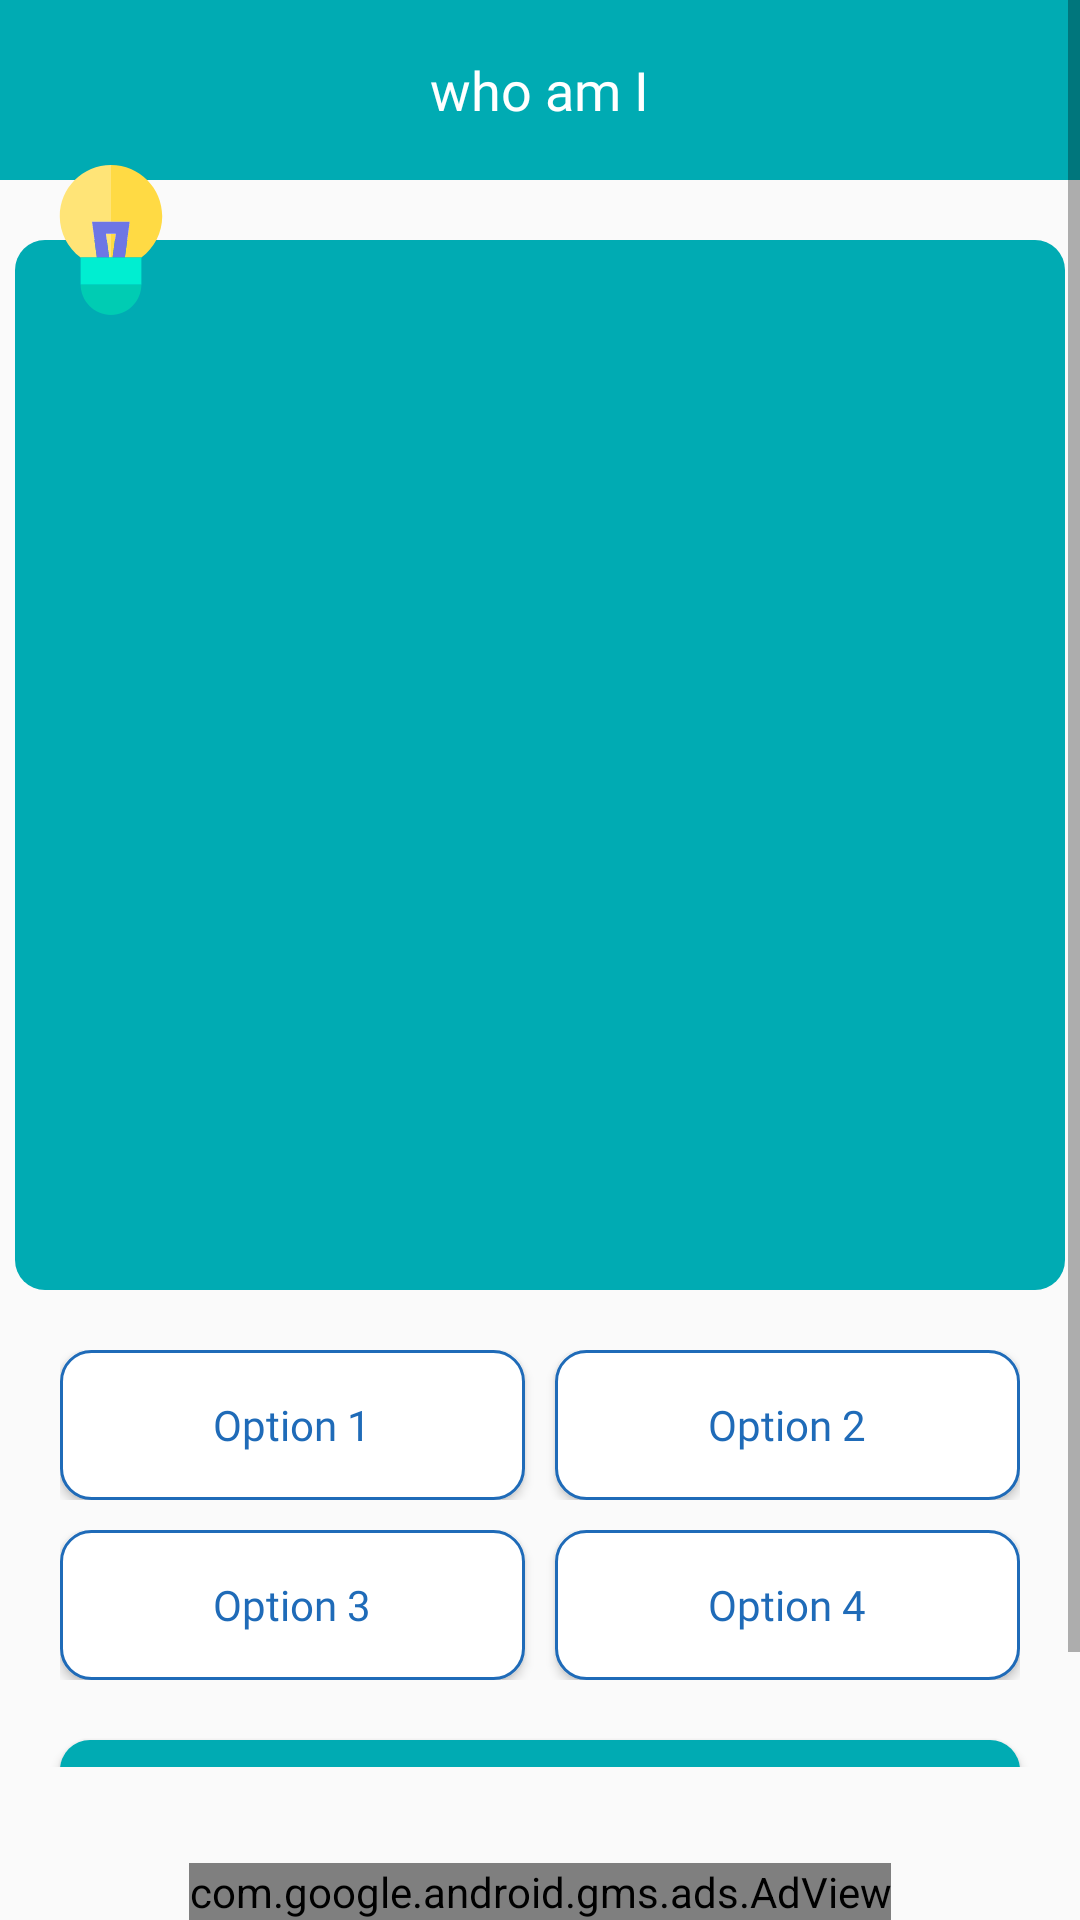

Screen size 1080 × 1920. Icon name, then its center in pixels as (x,y):
hint: (111,240)
